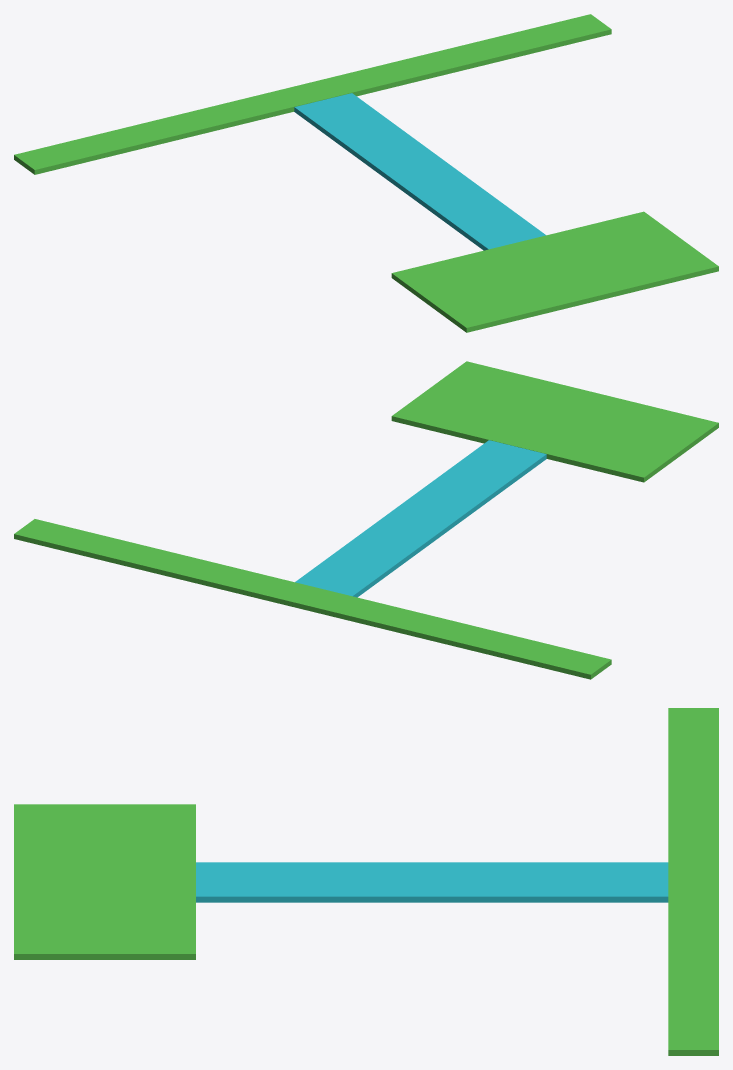
The model's file is route.clear_room.glb.
3 renders of one model, top to bottom at view 1: azimuth 30°, elevation 25°; view 2: azimuth 150°, elevation 25°; view 3: azimuth 270°, elevation 25°, orthographic. The views are drawn at different scales.
Visible parts, largest first — view 1: clear_head, clear_bar, clear_arrow; view 2: clear_head, clear_bar, clear_arrow; view 3: clear_head, clear_arrow, clear_bar.
Boxes of the visible parts, bbox=[...] form: clear_head: bbox=[391, 211, 718, 332]; clear_bar: bbox=[14, 14, 611, 174]; clear_arrow: bbox=[294, 93, 545, 250]; clear_head: bbox=[391, 361, 718, 482]; clear_bar: bbox=[14, 519, 611, 679]; clear_arrow: bbox=[295, 440, 546, 597]; clear_head: bbox=[14, 804, 195, 959]; clear_arrow: bbox=[196, 862, 668, 902]; clear_bar: bbox=[668, 708, 718, 1055].
Bounding box in the file's own units: 3.2 × 0.028 × 2.79.
